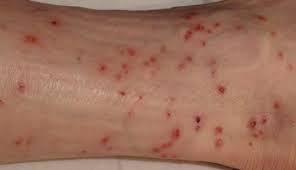Chiggers: (247, 112, 280, 139), (151, 141, 177, 164), (205, 56, 221, 81), (116, 47, 138, 58), (180, 28, 195, 43), (214, 126, 223, 149), (193, 113, 203, 132), (168, 128, 181, 141), (118, 63, 130, 77), (23, 35, 39, 45), (48, 16, 60, 29), (12, 139, 29, 148), (232, 24, 247, 34), (254, 14, 268, 23), (16, 80, 26, 92), (215, 85, 227, 95), (97, 62, 107, 73), (117, 89, 128, 99), (147, 56, 159, 65), (184, 12, 199, 19), (191, 23, 204, 31), (99, 135, 109, 145), (205, 26, 215, 36), (182, 55, 194, 63), (136, 93, 146, 102), (17, 81, 25, 92), (276, 50, 284, 61), (73, 54, 82, 63), (175, 62, 185, 70), (113, 73, 122, 81), (286, 63, 295, 71), (165, 111, 174, 118), (159, 44, 166, 53), (268, 31, 278, 37), (213, 22, 222, 28), (273, 102, 280, 109), (199, 40, 206, 46)
